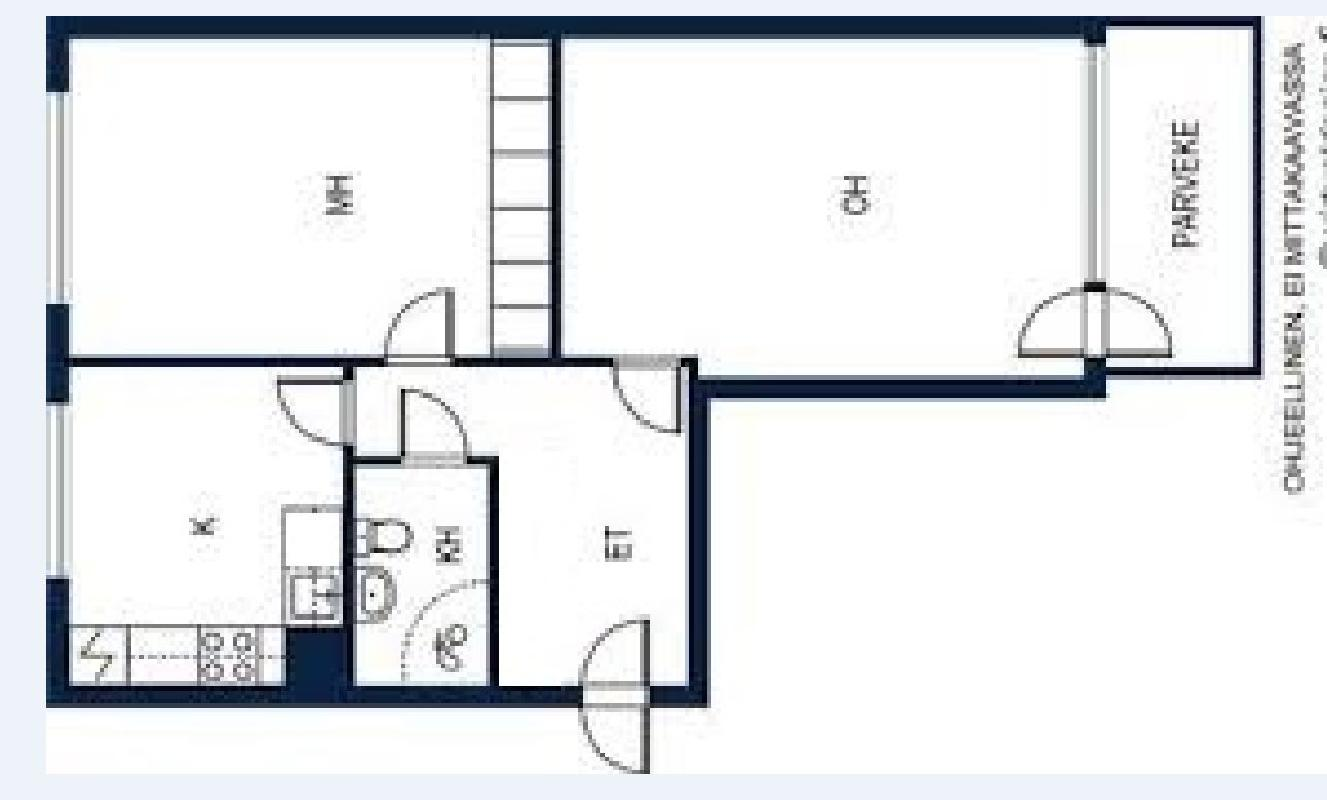door: (576, 609, 655, 777), (1023, 279, 1171, 360), (381, 279, 459, 368), (610, 355, 687, 441), (274, 375, 354, 452), (396, 387, 470, 469)
window: (1084, 47, 1113, 278), (46, 92, 71, 302), (44, 402, 69, 585)
zone: (556, 36, 1089, 383), (73, 37, 548, 357), (358, 366, 688, 687), (60, 364, 338, 687), (1105, 21, 1255, 368), (352, 462, 482, 680)
